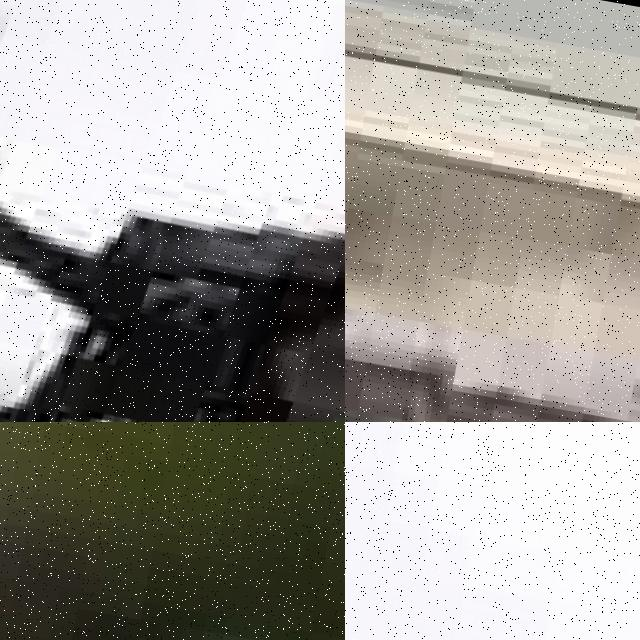drone: (0, 0, 345, 422)
